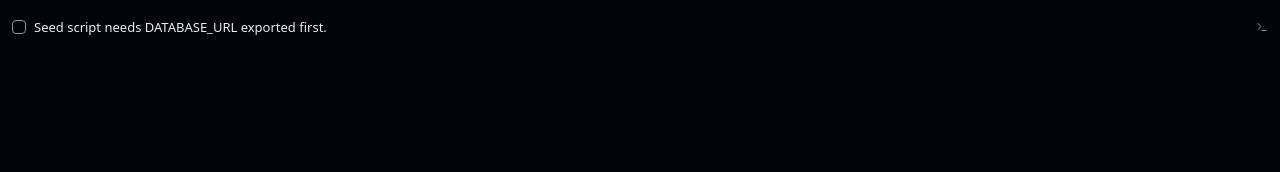
Test: NoteRow › Enter on a focused row starts editing; Escape cancels
Press Enter in the element showing "Seed script needs DATABASE_URL exported first.", box [4,12,1276,42]
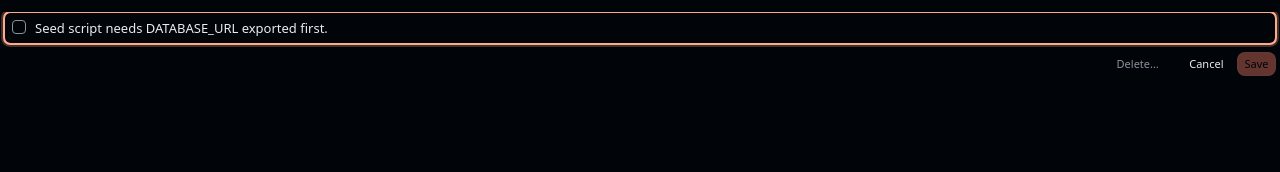
Replace the text in the text box named "Edit note" with "discarded". click: [640, 28]
box: [4,12,1276,44]
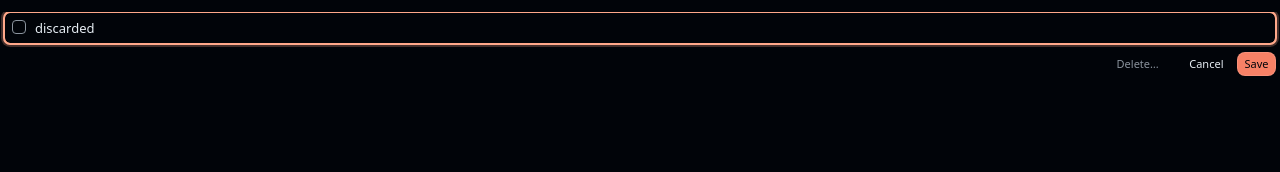
Press Escape in the text box named "Edit note", box [4,12,1276,44]
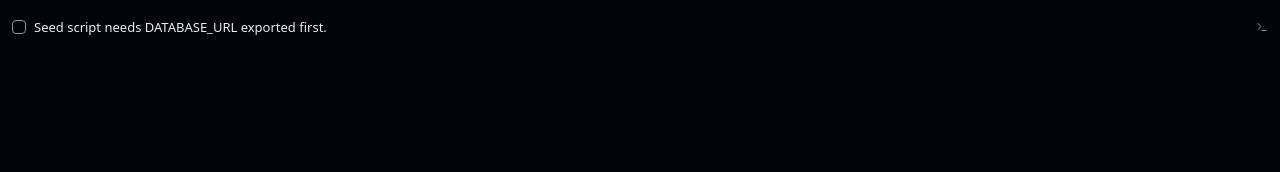
Expected: the text "Seed script needs DATABASE_URL exported first." is shown, [34,18,327,36]
